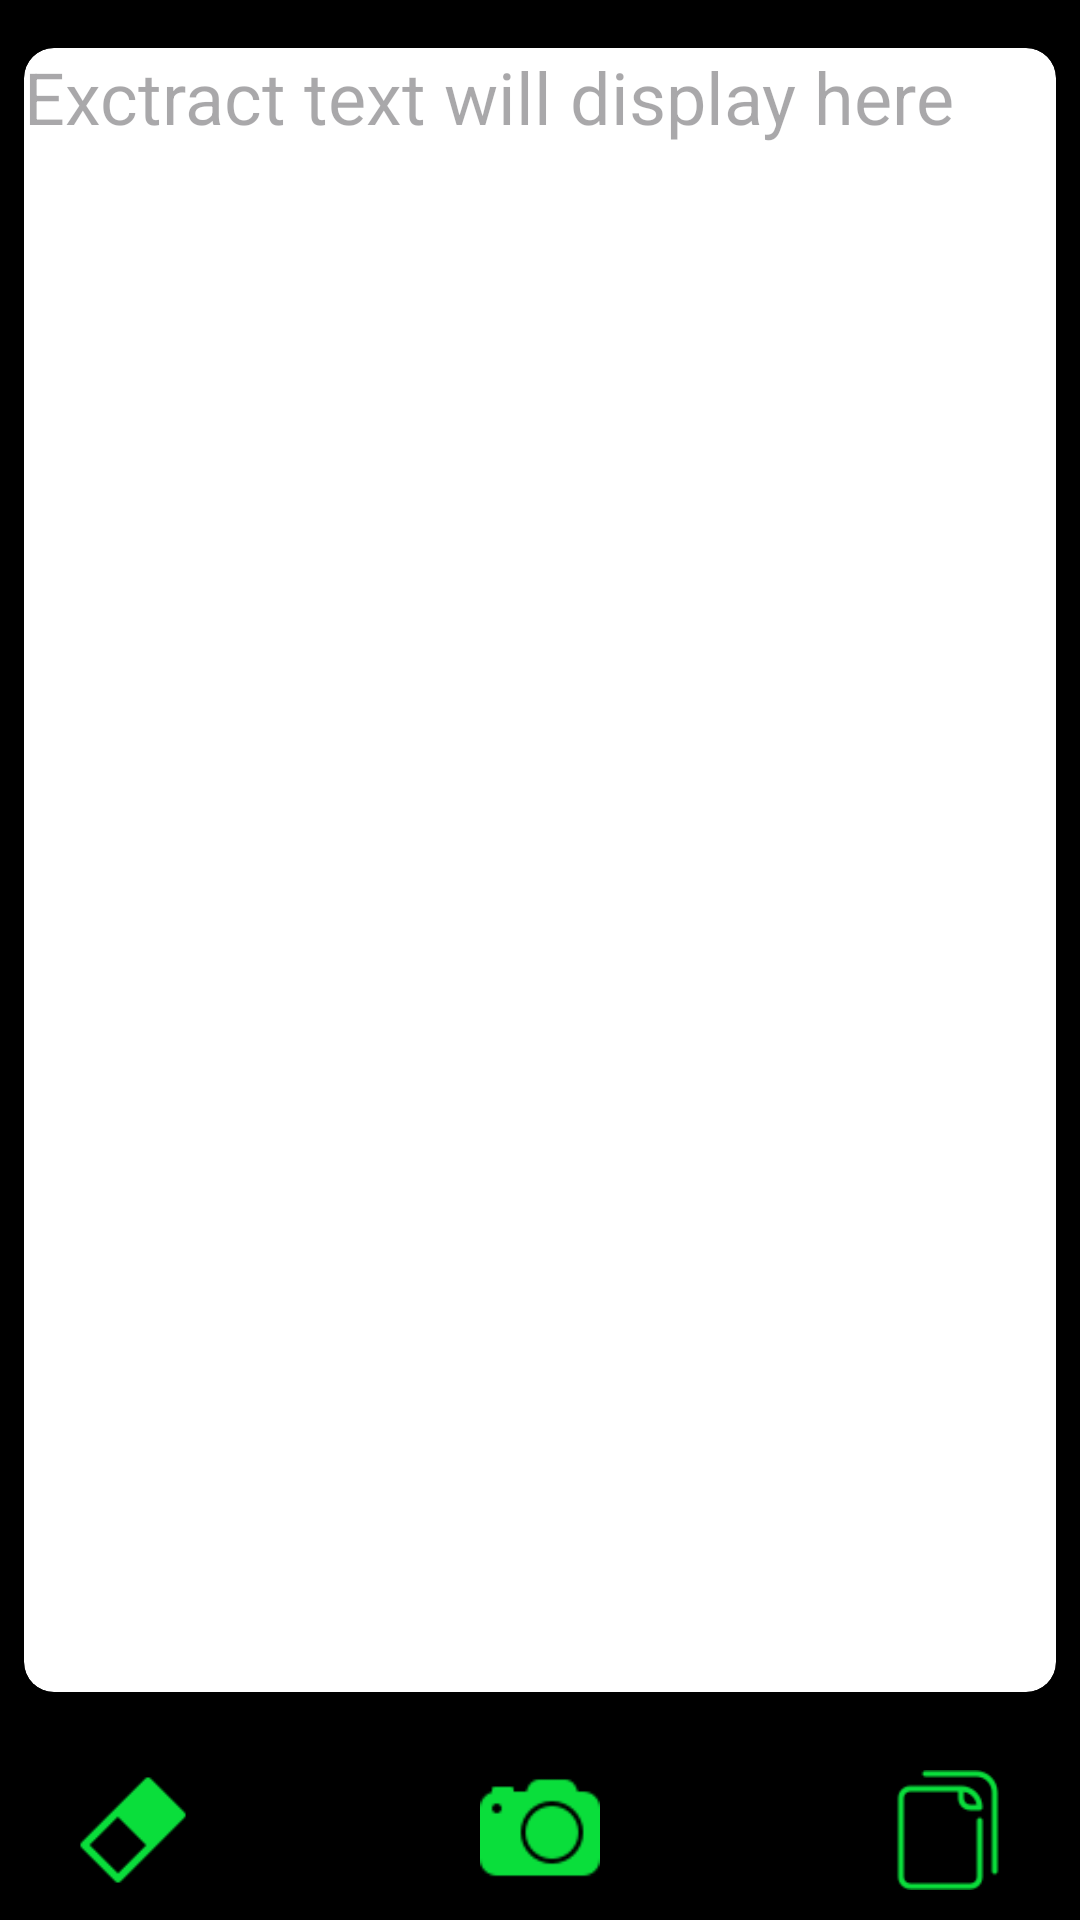

Locate icon controls on the screen. Image size 1080px x 1920px, boxes as (x1, y1, x2, y2).
camera: (480, 1779, 600, 1877)
eraser: (80, 1777, 186, 1883)
